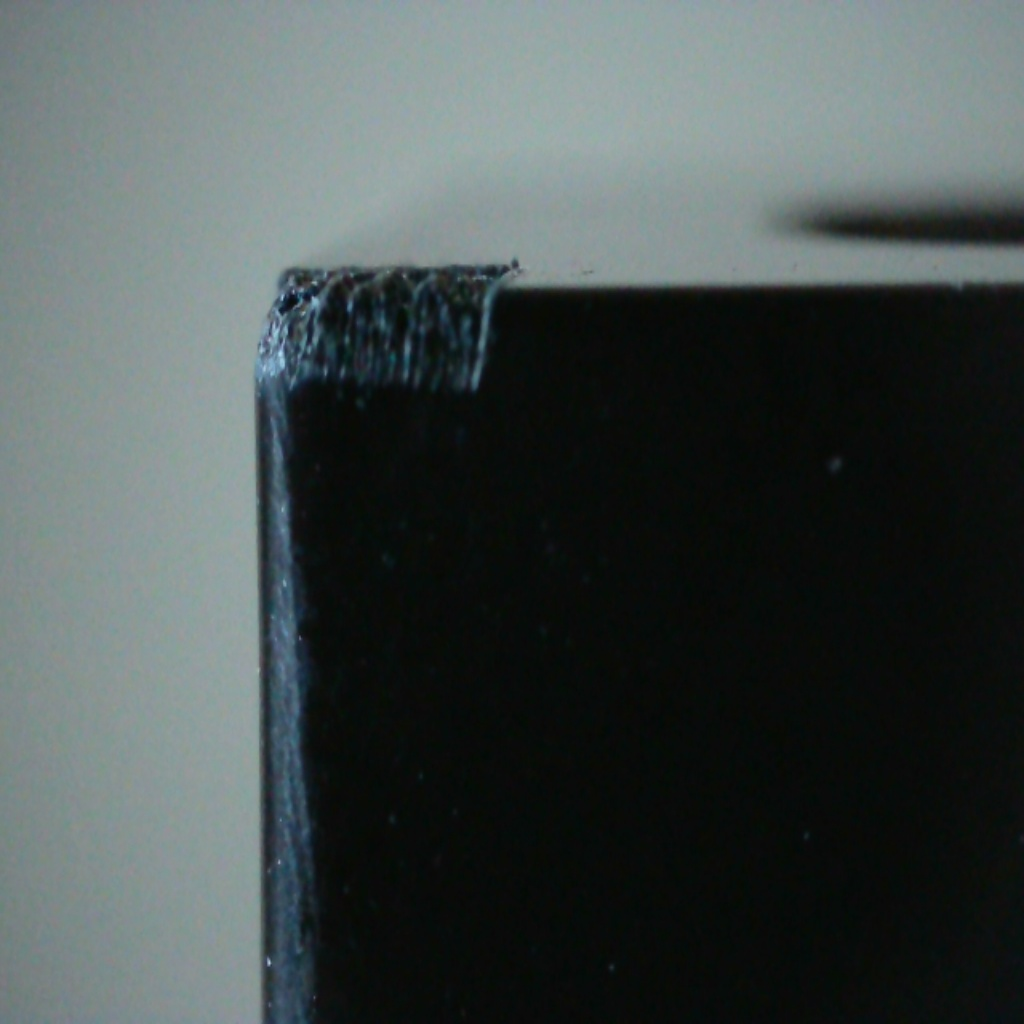flank_wear: (252, 325, 465, 414)
